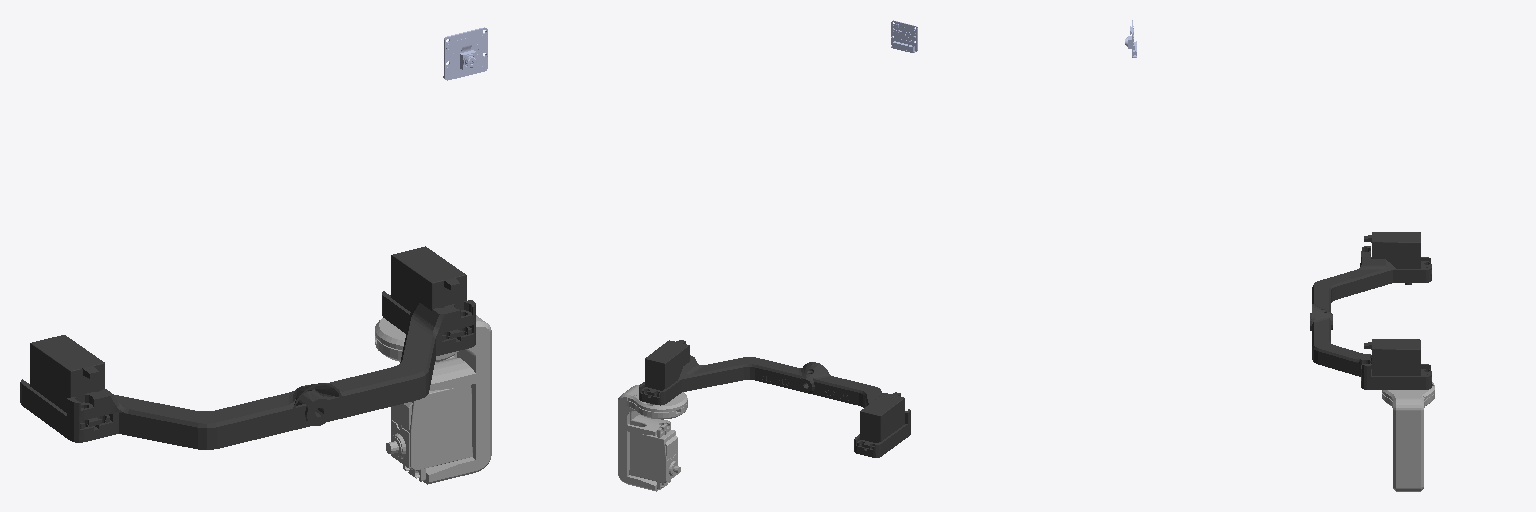
robot.urdf — ExoMy_Model:
<?xml version="1.0" encoding="utf-8"?>
<!-- This URDF was automatically created by SolidWorks to URDF Exporter! Originally created by [author] ([email redacted]) 
     Commit Version: 1.5.1-0-g916b5db  Build Version: 1.5.7152.31018
     For more information, please see http://wiki.ros.org/sw_urdf_exporter -->
<robot
  name="ExoMy_Model">
  <link
    name="base_link">
    <inertial>
      <origin
        xyz="0.000166132844511093 0.122611646294032 0.0176476740142159"
        rpy="0 0 0" />
      <mass
        value="0.620154414365186" />
      <inertia
        ixx="0.00160398254558214"
        ixy="5.68835545702948E-06"
        ixz="5.66100523488649E-06"
        iyy="0.00216940163447142"
        iyz="-1.96292973974915E-05"
        izz="0.00147929509086943" />
    </inertial>
    <visual>
      <origin
        xyz="0 0 0"
        rpy="0 0 0" />
      <geometry>
        <mesh
          filename="package://ExoMy_Model/meshes/base_link.STL" />
      </geometry>
      <material
        name="">
        <color
          rgba="0.298039215686275 0.298039215686275 0.298039215686275 1" />
      </material>
    </visual>
    <collision>
      <origin
        xyz="0 0 0"
        rpy="0 0 0" />
      <geometry>
        <mesh
          filename="package://ExoMy_Model/meshes/base_link.STL" />
      </geometry>
    </collision>
  </link>
  <link
    name="cam_link">
    <inertial>
      <origin
        xyz="-0.00249086473821564 0.000136649009533667 0.000569820673845381"
        rpy="0 0 0" />
      <mass
        value="0.00115745344893835" />
      <inertia
        ixx="3.97290092554322E-08"
        ixy="1.65336504816449E-13"
        ixz="-3.60412180476238E-11"
        iyy="2.88827920072805E-08"
        iyz="-2.52492241683058E-13"
        izz="6.76913771029694E-08" />
    </inertial>
    <visual>
      <origin
        xyz="0 0 0"
        rpy="0 0 0" />
      <geometry>
        <mesh
          filename="package://ExoMy_Model/meshes/cam_link.STL" />
      </geometry>
      <material
        name="">
        <color
          rgba="0.792156862745098 0.819607843137255 0.933333333333333 1" />
      </material>
    </visual>
    <collision>
      <origin
        xyz="0 0 0"
        rpy="0 0 0" />
      <geometry>
        <mesh
          filename="package://ExoMy_Model/meshes/cam_link.STL" />
      </geometry>
    </collision>
  </link>
  <joint
    name="cam_joint"
    type="fixed">
    <origin
      xyz="9.4215E-05 -0.063 0.27244"
      rpy="1.5708 -1.5708 0" />
    <parent
      link="base_link" />
    <child
      link="cam_link" />
    <axis
      xyz="0 0 0" />
  </joint>
  <link
    name="MRB_link">
    <inertial>
      <origin
        xyz="4.75495428451005E-06 0.00517244564382657 0.0532036918677615"
        rpy="0 0 0" />
      <mass
        value="0.108378303008227" />
      <inertia
        ixx="4.87361081191787E-05"
        ixy="-1.48702235400227E-09"
        ixz="1.5114207716519E-08"
        iyy="0.000292228221202496"
        iyz="2.65262441635302E-07"
        izz="0.000257396094560959" />
    </inertial>
    <visual>
      <origin
        xyz="0 0 0"
        rpy="0 0 0" />
      <geometry>
        <mesh
          filename="package://ExoMy_Model/meshes/MRB_link.STL" />
      </geometry>
      <material
        name="">
        <color
          rgba="0.298039215686275 0.298039215686275 0.298039215686275 1" />
      </material>
    </visual>
    <collision>
      <origin
        xyz="0 0 0"
        rpy="0 0 0" />
      <geometry>
        <mesh
          filename="package://ExoMy_Model/meshes/MRB_link.STL" />
      </geometry>
    </collision>
  </link>
  <joint
    name="MRB_joint"
    type="continuous">
    <origin
      xyz="0 0.082 0.017"
      rpy="1.5708 0 -3.1416" />
    <parent
      link="base_link" />
    <child
      link="MRB_link" />
    <axis
      xyz="0 0 1" />
  </joint>
  <link
    name="STR_LR_link">
    <inertial>
      <origin
        xyz="-0.116237029100464 -0.0491787009553567 0.02177451371448"
        rpy="0 0 0" />
      <mass
        value="0.0711741624806838" />
      <inertia
        ixx="3.36879478479988E-05"
        ixy="-4.73850731914459E-06"
        ixz="8.98028473572837E-09"
        iyy="1.59152321238693E-05"
        iyz="1.40355471130006E-07"
        izz="4.10598360484863E-05" />
    </inertial>
    <visual>
      <origin
        xyz="0 0 0"
        rpy="0 0 0" />
      <geometry>
        <mesh
          filename="package://ExoMy_Model/meshes/STR_LR_link.STL" />
      </geometry>
      <material
        name="">
        <color
          rgba="0.698039215686274 0.698039215686274 0.698039215686274 1" />
      </material>
    </visual>
    <collision>
      <origin
        xyz="0 0 0"
        rpy="0 0 0" />
      <geometry>
        <mesh
          filename="package://ExoMy_Model/meshes/STR_LR_link.STL" />
      </geometry>
    </collision>
  </link>
  <joint
    name="STR_LR_joint"
    type="continuous">
    <origin
      xyz="0 0 0.058775"
      rpy="0 0 0" />
    <parent
      link="MRB_link" />
    <child
      link="STR_LR_link" />
    <axis
      xyz="0 0 1" />
  </joint>
  <link
    name="STR_RR_link">
    <inertial>
      <origin
        xyz="-0.11616805427964 -0.0492434774044638 -0.0217766439662085"
        rpy="0 0 0" />
      <mass
        value="0.0704590005105739" />
      <inertia
        ixx="3.31436979459759E-05"
        ixy="-4.64776105131268E-06"
        ixz="-7.92538614535716E-09"
        iyy="1.57164850586242E-05"
        iyz="-1.37762287913578E-07"
        izz="4.04186277976059E-05" />
    </inertial>
    <visual>
      <origin
        xyz="0 0 0"
        rpy="0 0 0" />
      <geometry>
        <mesh
          filename="package://ExoMy_Model/meshes/STR_RR_link.STL" />
      </geometry>
      <material
        name="">
        <color
          rgba="0.698039215686274 0.698039215686274 0.698039215686274 1" />
      </material>
    </visual>
    <collision>
      <origin
        xyz="0 0 0"
        rpy="0 0 0" />
      <geometry>
        <mesh
          filename="package://ExoMy_Model/meshes/STR_RR_link.STL" />
      </geometry>
    </collision>
  </link>
  <joint
    name="STR_RR_joint"
    type="continuous">
    <origin
      xyz="0 0 0.058775"
      rpy="3.1416 0 -3.1416" />
    <parent
      link="MRB_link" />
    <child
      link="STR_RR_link" />
    <axis
      xyz="0 0 1" />
  </joint>
</robot>

--- What the picture shows (computed from the rendered views, not written in the file) ---
Views: 3 orthographic renders of the robot side by side, from view 1: azimuth 30°, elevation 25°; view 2: azimuth 150°, elevation 25°; view 3: azimuth 270°, elevation 25°.
Robot: ExoMy_Model — 5 links, 4 joints (3 continuous, 1 fixed); root link base_link; default pose: every joint at zero.
Links seen in each view (by area): view 1: MRB_link, STR_LR_link, cam_link; view 2: MRB_link, STR_LR_link, cam_link; view 3: MRB_link, STR_LR_link.
Link boxes in pixels (<box>): MRB_link: <box>20,246,475,449</box>; STR_LR_link: <box>375,315,491,484</box>; cam_link: <box>443,27,487,80</box>; MRB_link: <box>639,340,910,457</box>; STR_LR_link: <box>618,385,687,491</box>; cam_link: <box>891,20,917,52</box>; MRB_link: <box>1310,232,1431,389</box>; STR_LR_link: <box>1382,382,1434,491</box>.
Bounding box of the posed robot: 0.2556 × 0.2545 × 0.3593 m (x, y, z).
Meshes: 5 distinct files referenced, 3 mesh visuals loaded (3 binary STL); not drawn: 2 (reference not matched to a file when rendering).